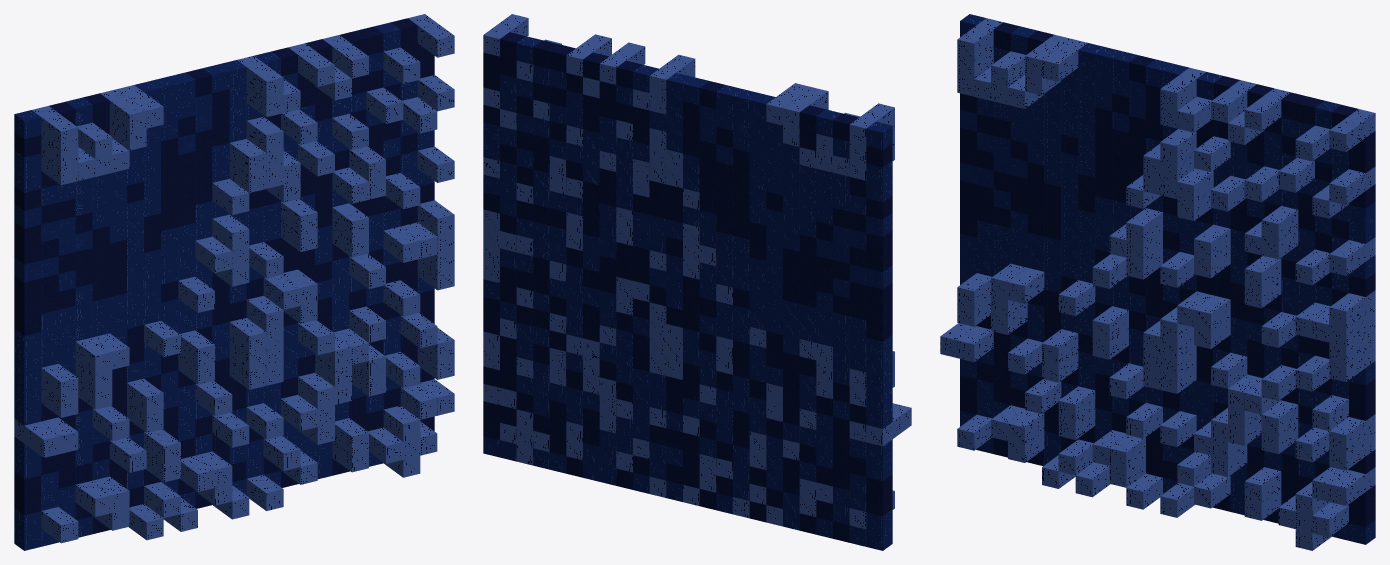
3 renders of one model, left to right at view 1: azimuth 30°, elevation 25°; view 2: azimuth 150°, elevation 25°; view 3: azimuth 330°, elevation 25°, orthographic. The views are drawn at different scales.
Bounding box in the file's own units: 2.4 × 2.4 × 0.3.
